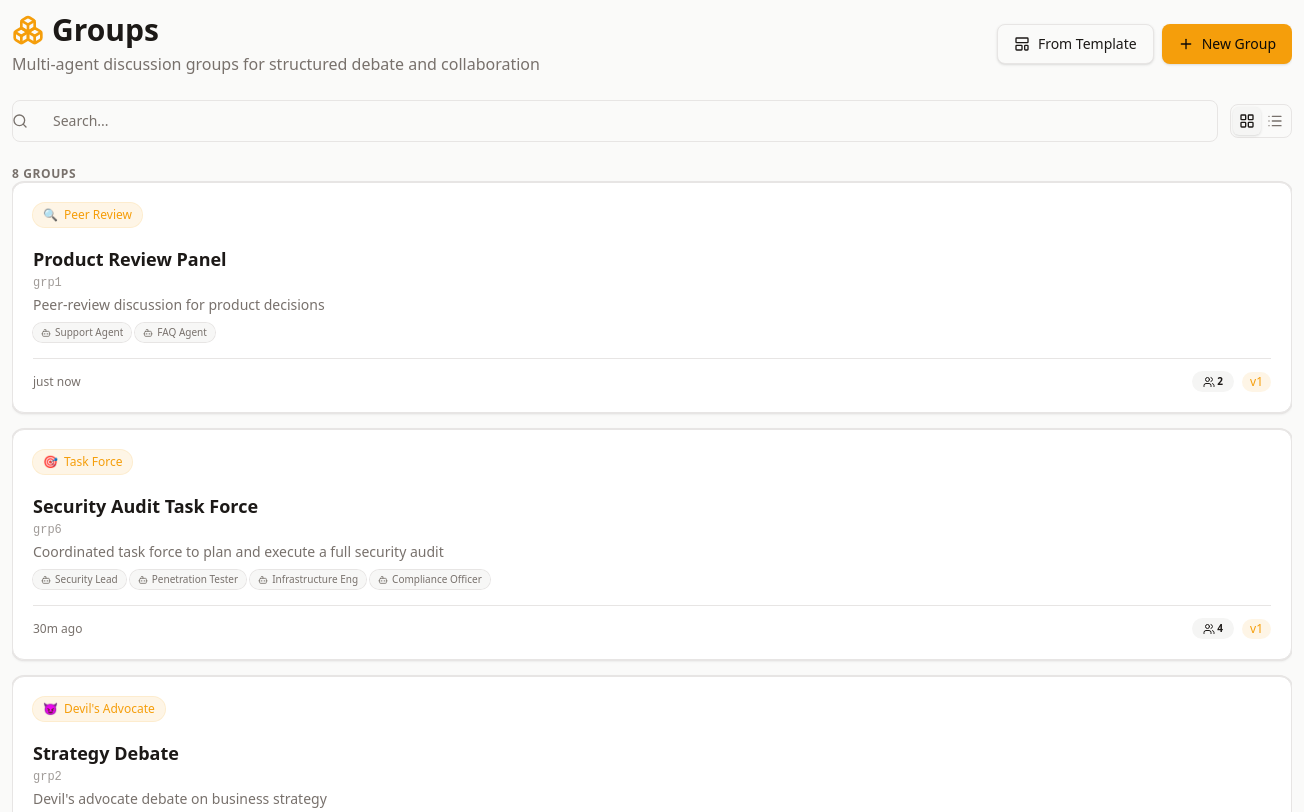
GroupsPage › switches to list view when list toggle is clicked
Note: Find the list view button in the view toggle
Step 1. Click the radio button with test id "view-toggle-list" → (1275, 121), box top-left (1261, 107), bottom-right (1289, 135)
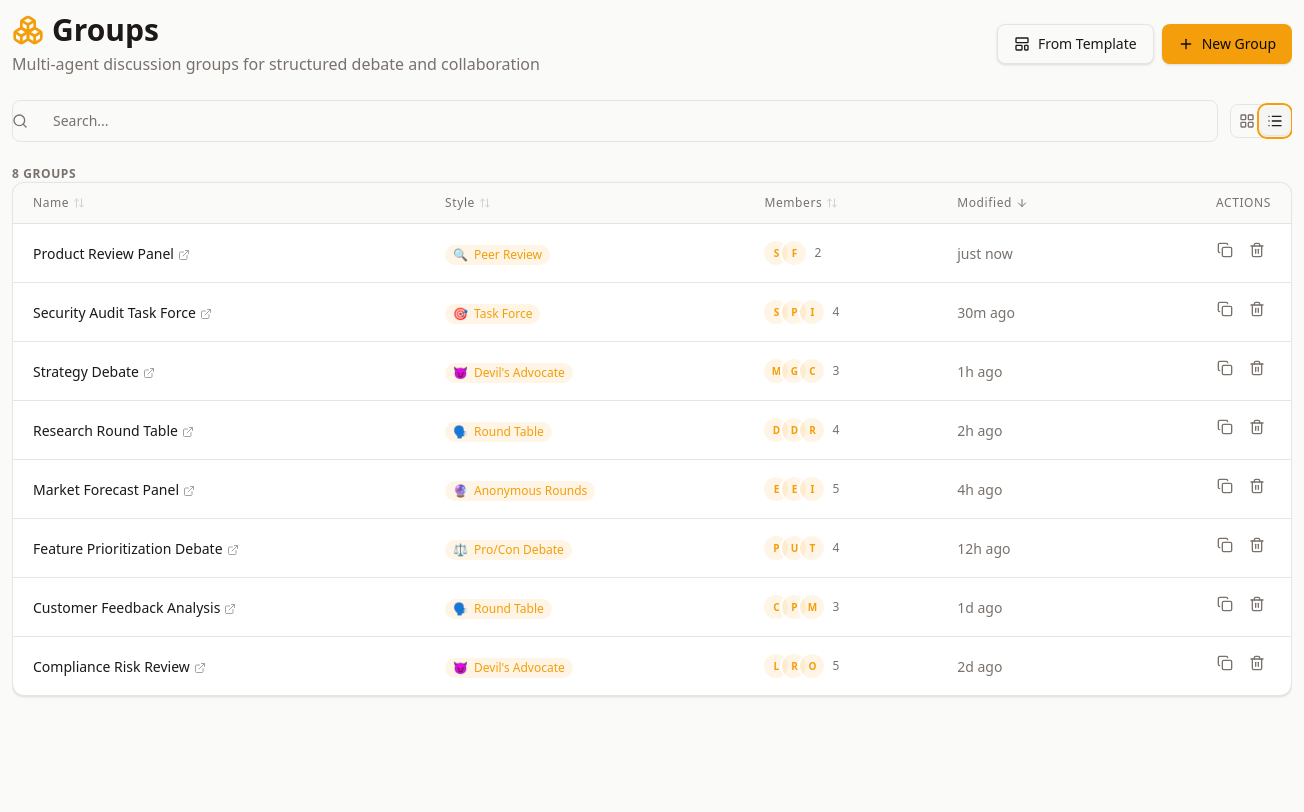
Now the element with test id "group-list" is shown
